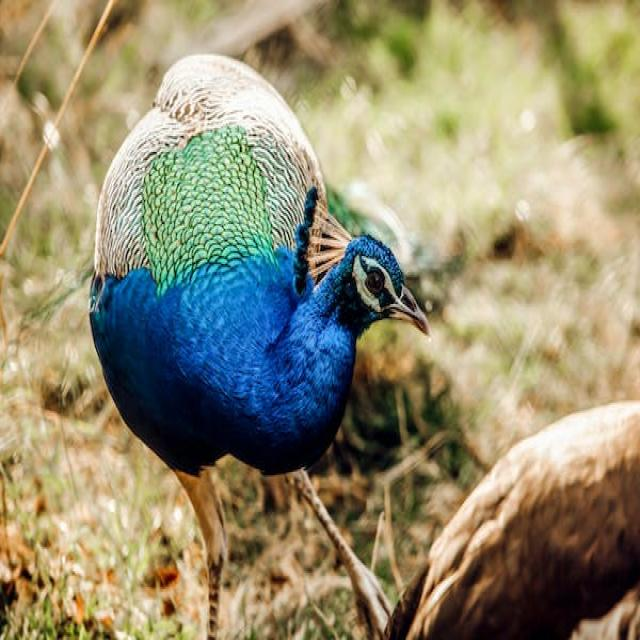peacock: (54, 42, 432, 640)
